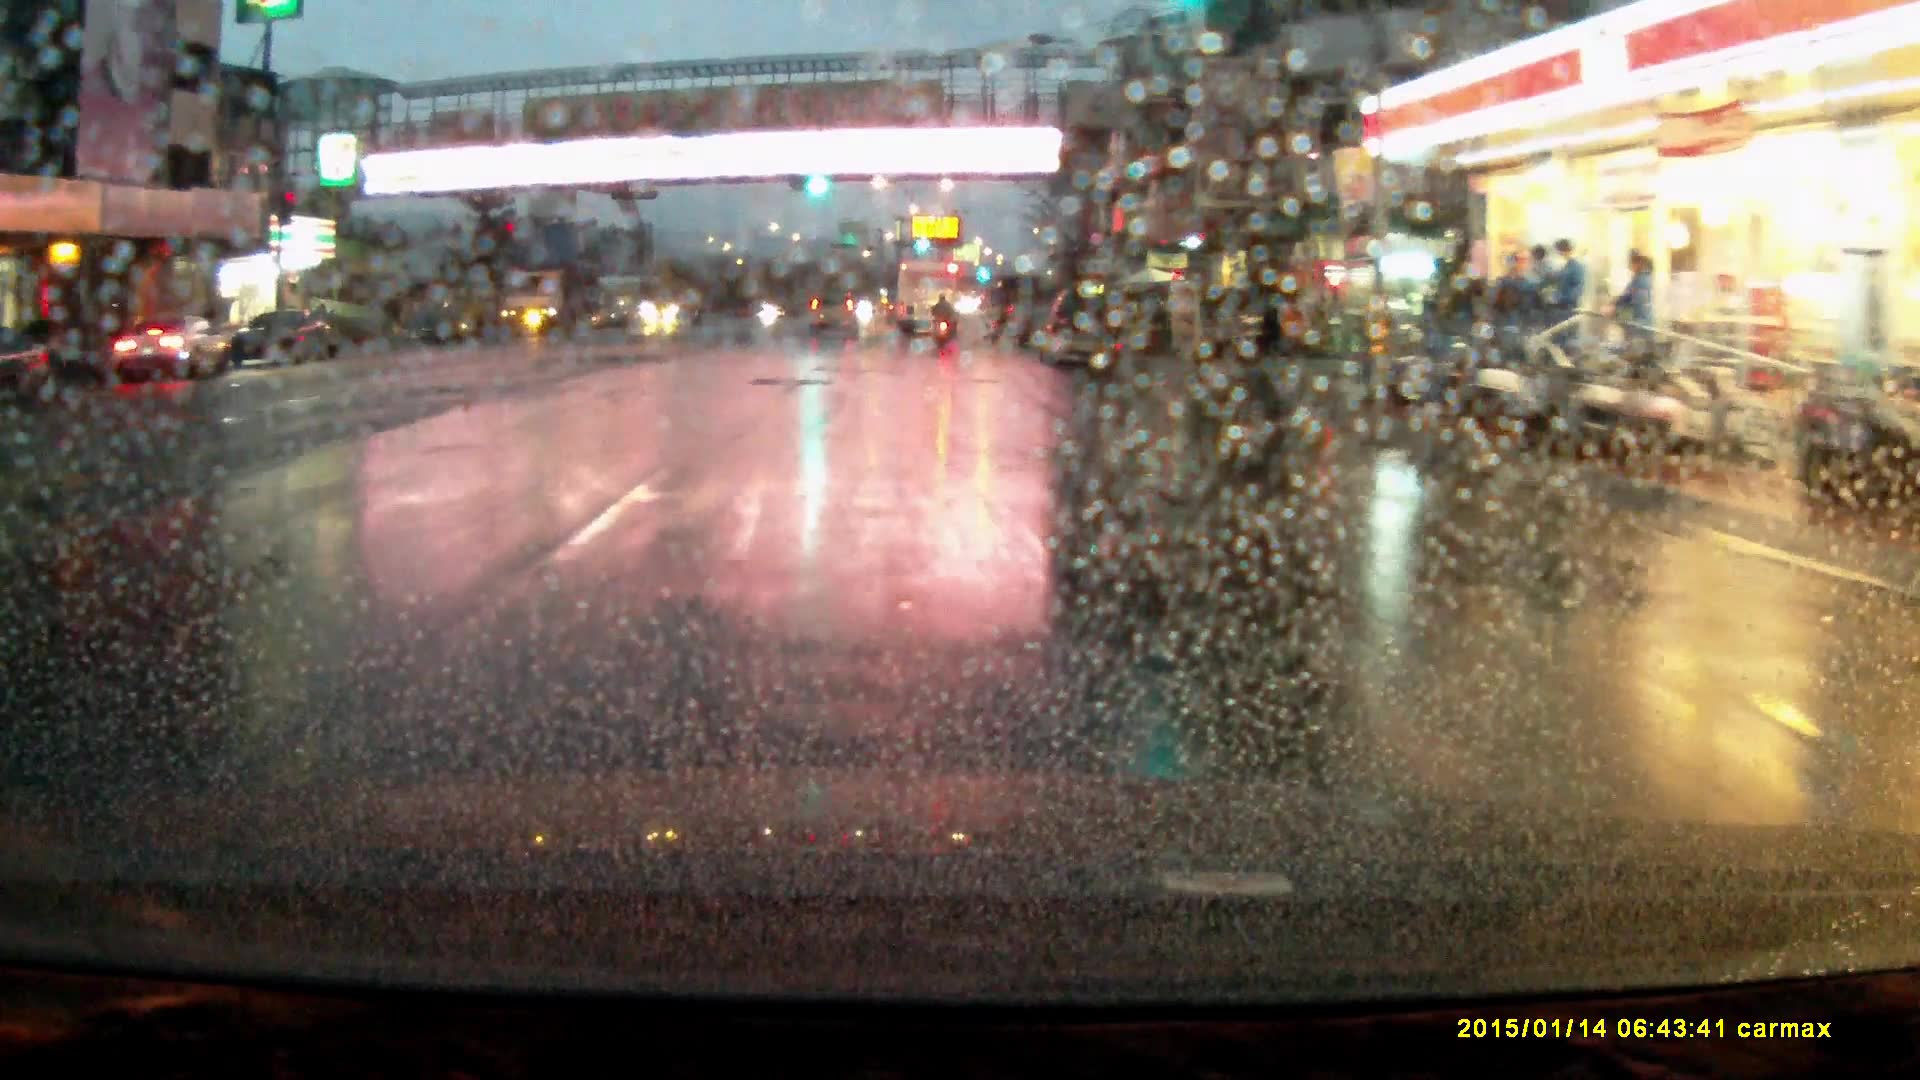rider: (932, 291, 958, 349)
vehicle: (500, 258, 601, 338), (113, 317, 226, 384), (1042, 289, 1126, 372), (229, 308, 342, 368), (1206, 292, 1292, 358), (896, 258, 957, 340), (644, 283, 708, 328), (808, 295, 861, 341)
